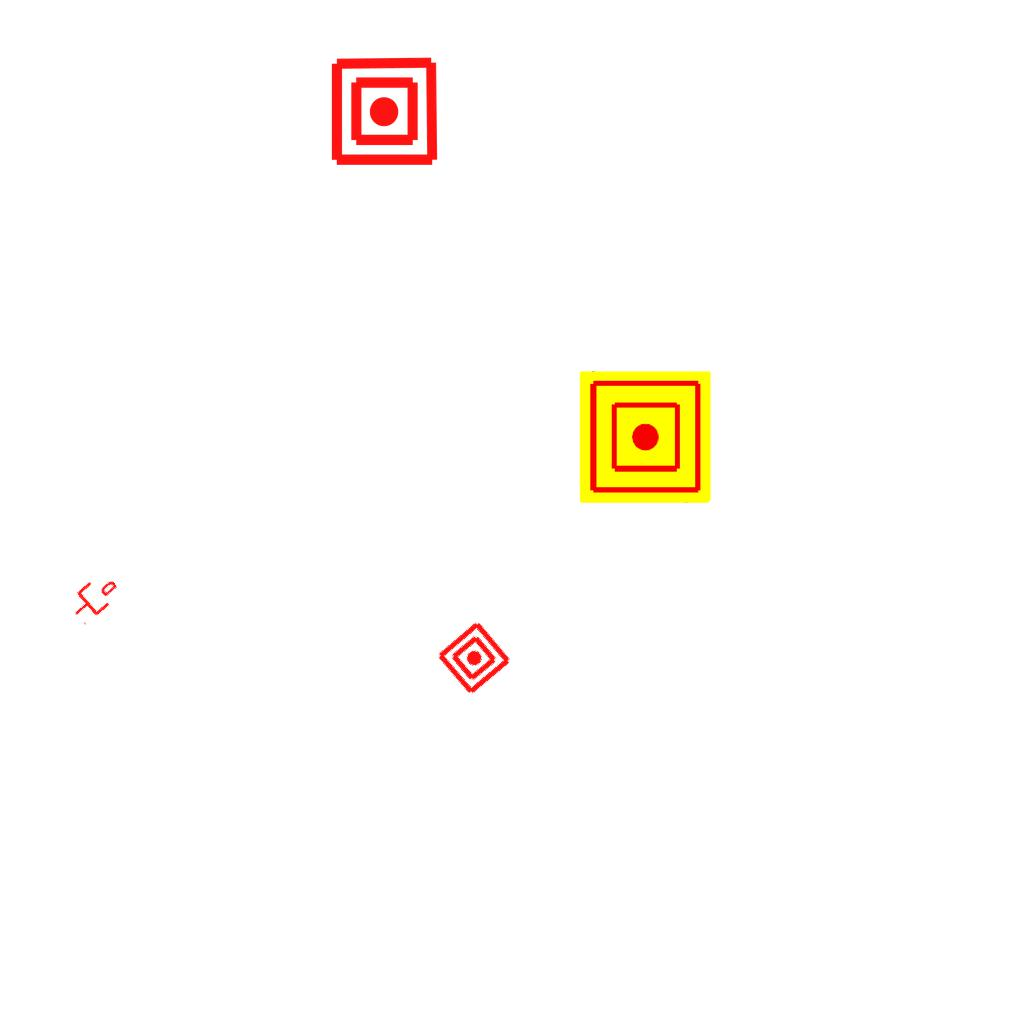Datenanschluss_einfach: (63, 568, 125, 628)
NAM-Nichtautomatischer_Melder: (579, 371, 711, 503), (328, 55, 441, 168), (434, 618, 514, 698)
